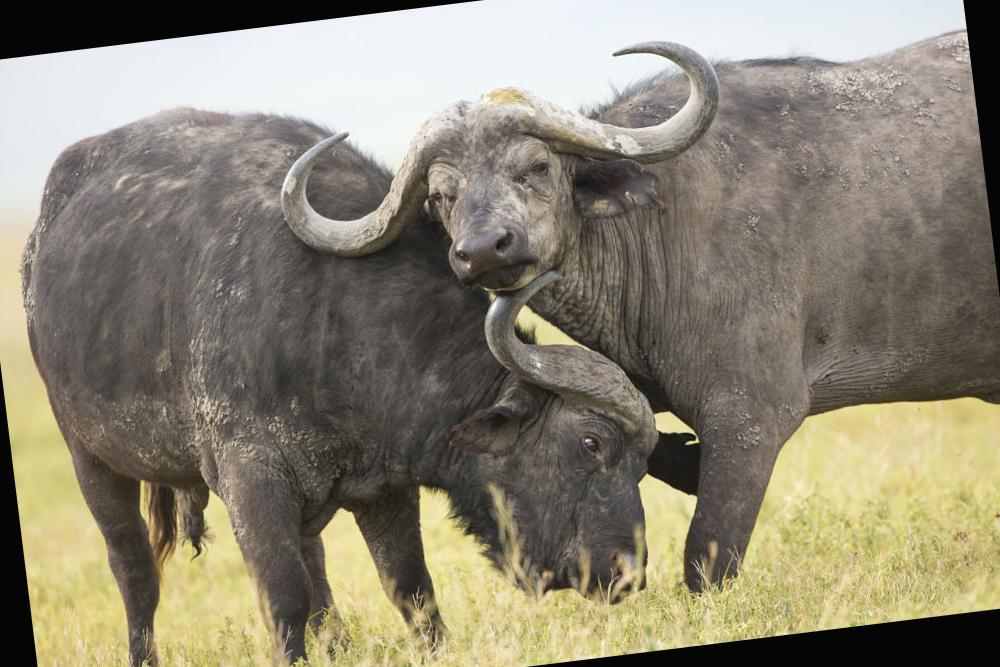Buffalo: (1, 7, 1000, 649)
